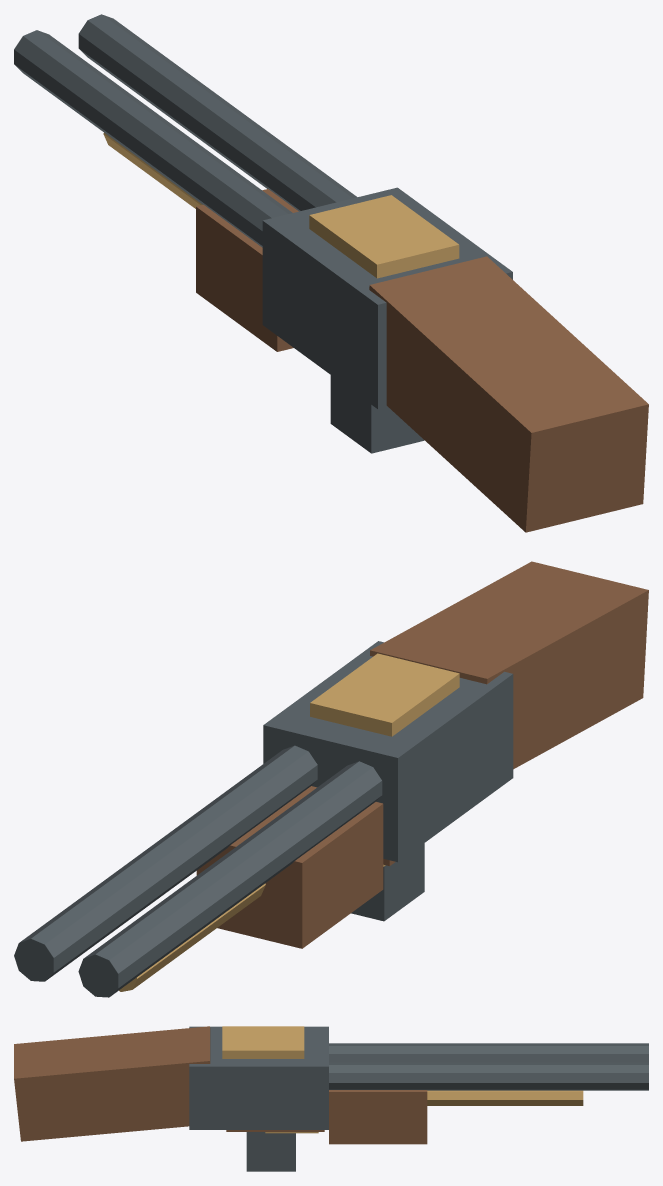
File: brokenstone-shotgun.glb
3 renders of one model, top to bottom at view 1: azimuth 30°, elevation 25°; view 2: azimuth 150°, elevation 25°; view 3: azimuth 270°, elevation 25°, orthographic. The views are drawn at different scales.
Parts seen in each view (by area): view 1: ReceiverGeometry, MagazineGeometry; view 2: ReceiverGeometry, MagazineGeometry; view 3: ReceiverGeometry, MagazineGeometry, BoltGeometry.
Part boxes in pixels (x1=…): ReceiverGeometry: x1=14, y1=14, x2=648, y2=532; MagazineGeometry: x1=330, y1=375, x2=424, y2=453; ReceiverGeometry: x1=14, y1=561, x2=648, y2=997; MagazineGeometry: x1=351, y1=843, x2=424, y2=921; ReceiverGeometry: x1=14, y1=1026, x2=648, y2=1144; MagazineGeometry: x1=246, y1=1132, x2=295, y2=1171; BoltGeometry: x1=226, y1=1130, x2=324, y2=1133.
Size of the model in its own units: 0.23 by 0.3375 by 1.55.
